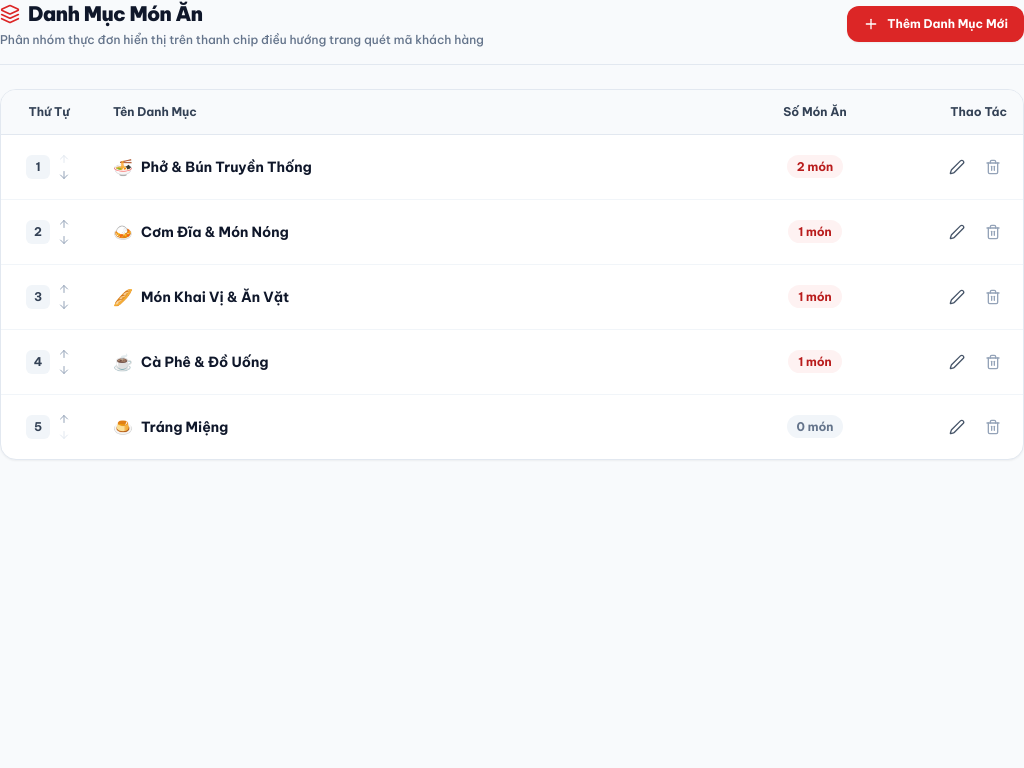
Test: Story A4: CategoryManage Component (mockup a09) › displays server error message when deleting a category that still has products
Click the button with test id "delete-category-btn-1" at coordinates (993, 167), box [979,153,1007,181]
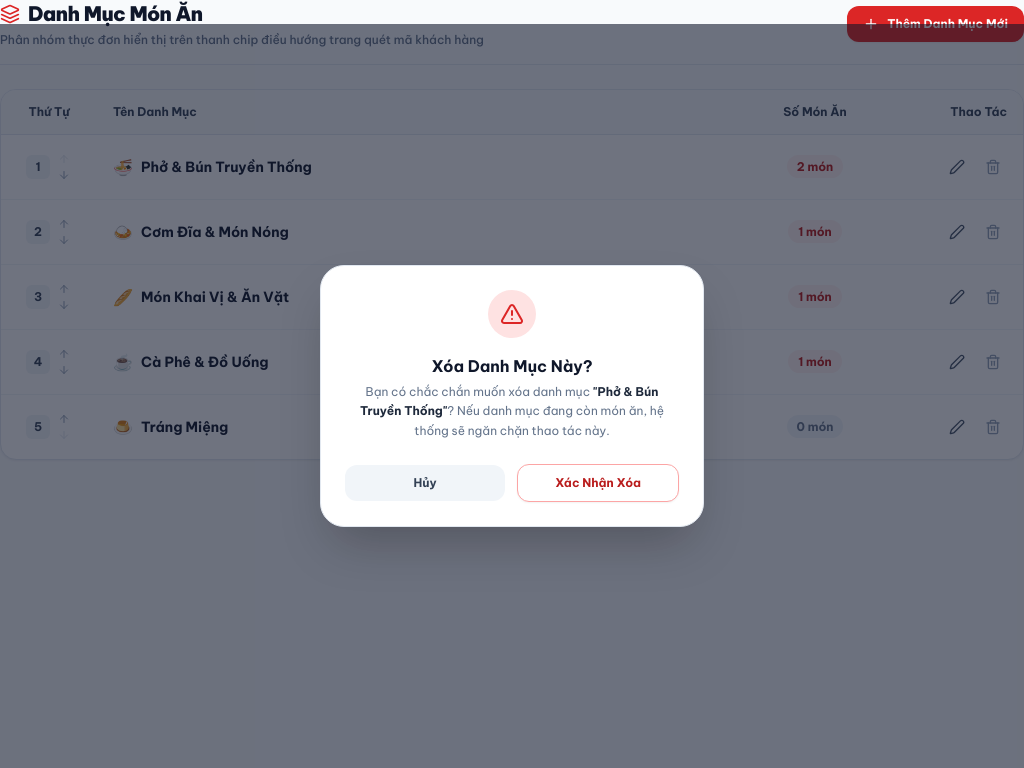
Click the button with test id "confirm-delete-category-btn" at coordinates (598, 483), box [517,464,679,502]
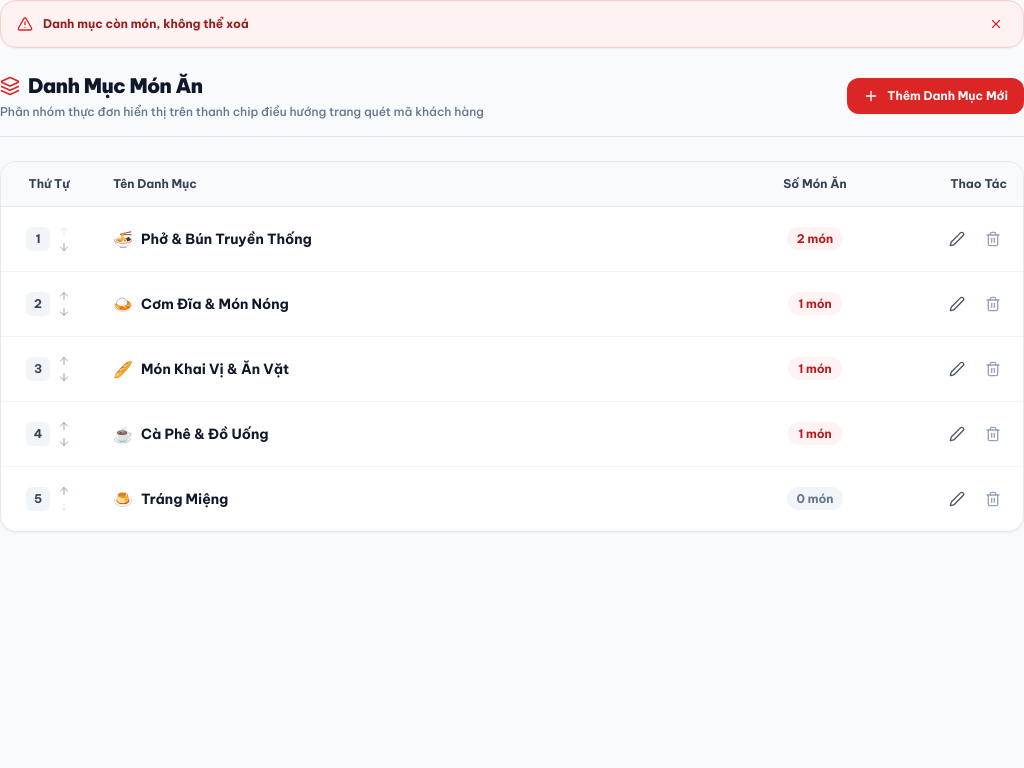
Result: the message with test id "category-error-banner" reads "Danh mục còn món, không thể xoá" at [43,16,249,31]
